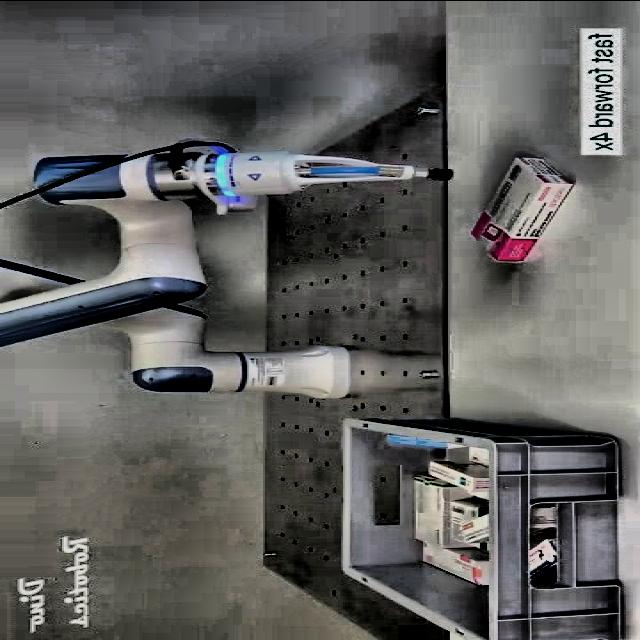robot: (0, 139, 452, 398)
